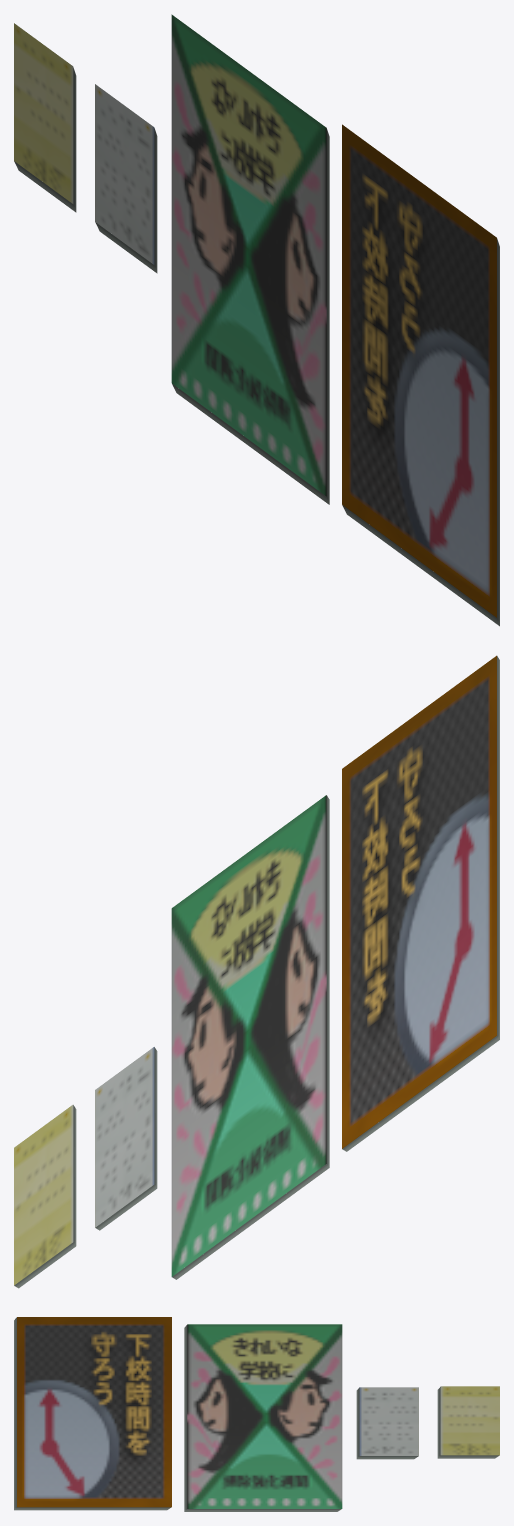
Rendered from HW_infoC.FBX.
The picture shows the model from 3 angles, top to bottom: view 1: azimuth 30°, elevation 25°; view 2: azimuth 150°, elevation 25°; view 3: azimuth 270°, elevation 25°; orthographic projection. The views are drawn at different scales.
Visible parts, largest first — view 1: HW_infoC; view 2: HW_infoC; view 3: HW_infoC.
Boxes of the visible parts, left/top/right/bottom form: HW_infoC: left=14, top=14, right=499, bottom=626; HW_infoC: left=14, top=655, right=499, bottom=1288; HW_infoC: left=14, top=1317, right=499, bottom=1511.
Bounding box in the file's own units: 0.00145 × 93.77 × 212.
